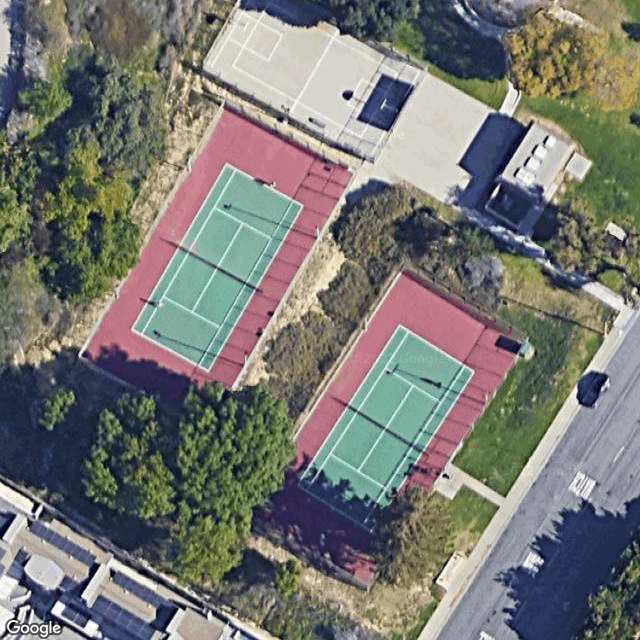Court: (294, 323, 476, 533), (130, 162, 305, 373)
